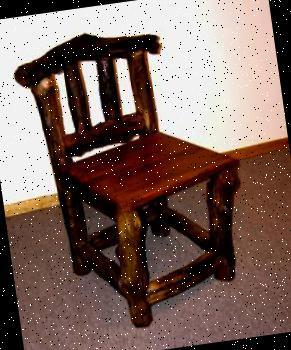Silla: (11, 14, 257, 340)
